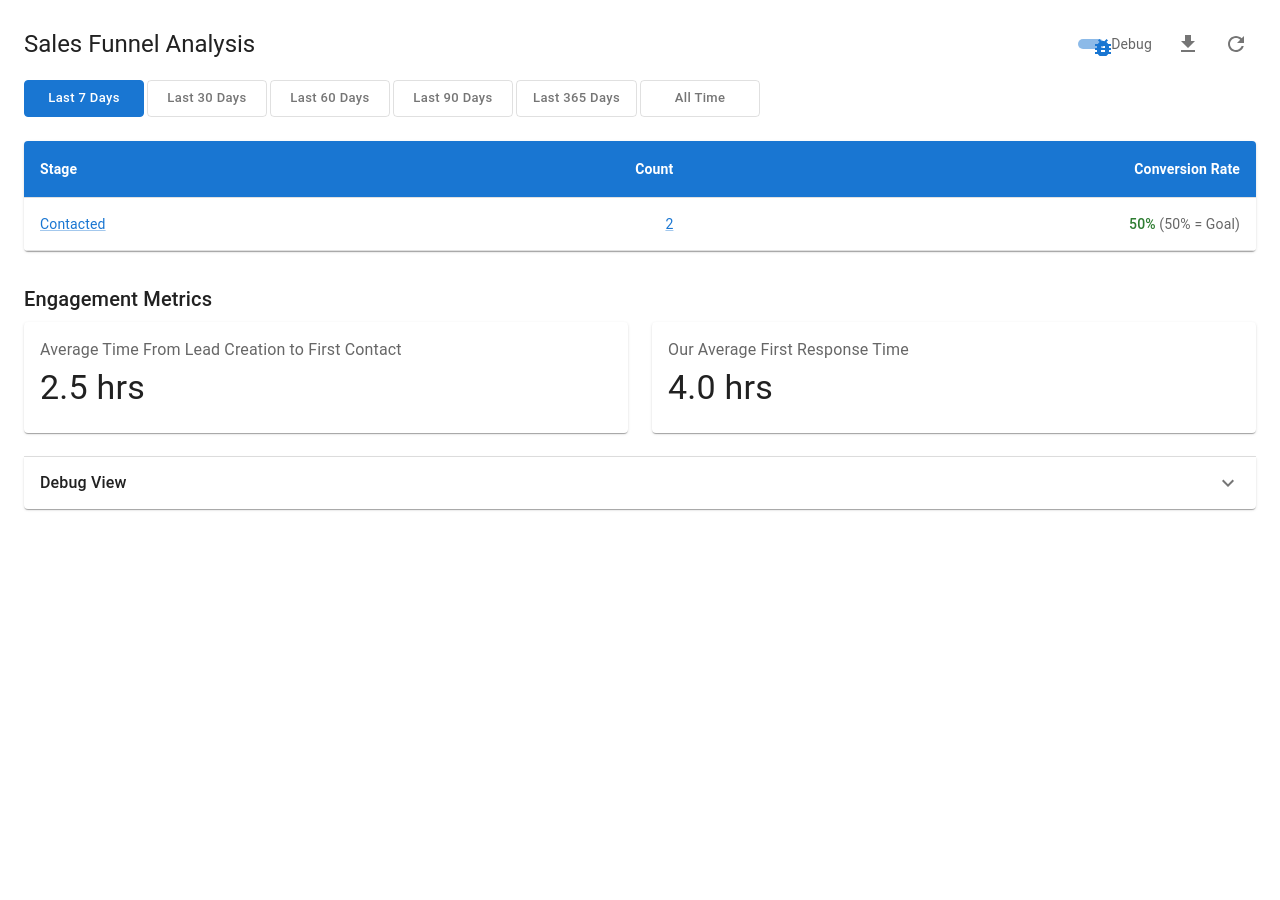
SalesFunnelReportComponent › Stage Drill-Down › should close modal when close button is clicked
Expected: the table is shown, [24,141,1256,251]
Open modal
What coordinates should you click on to do the following:
click the row "Contacted 2 50% (50% = Goal)"
I would click on:
 (640, 224)
Its box is [24,197,1256,250].
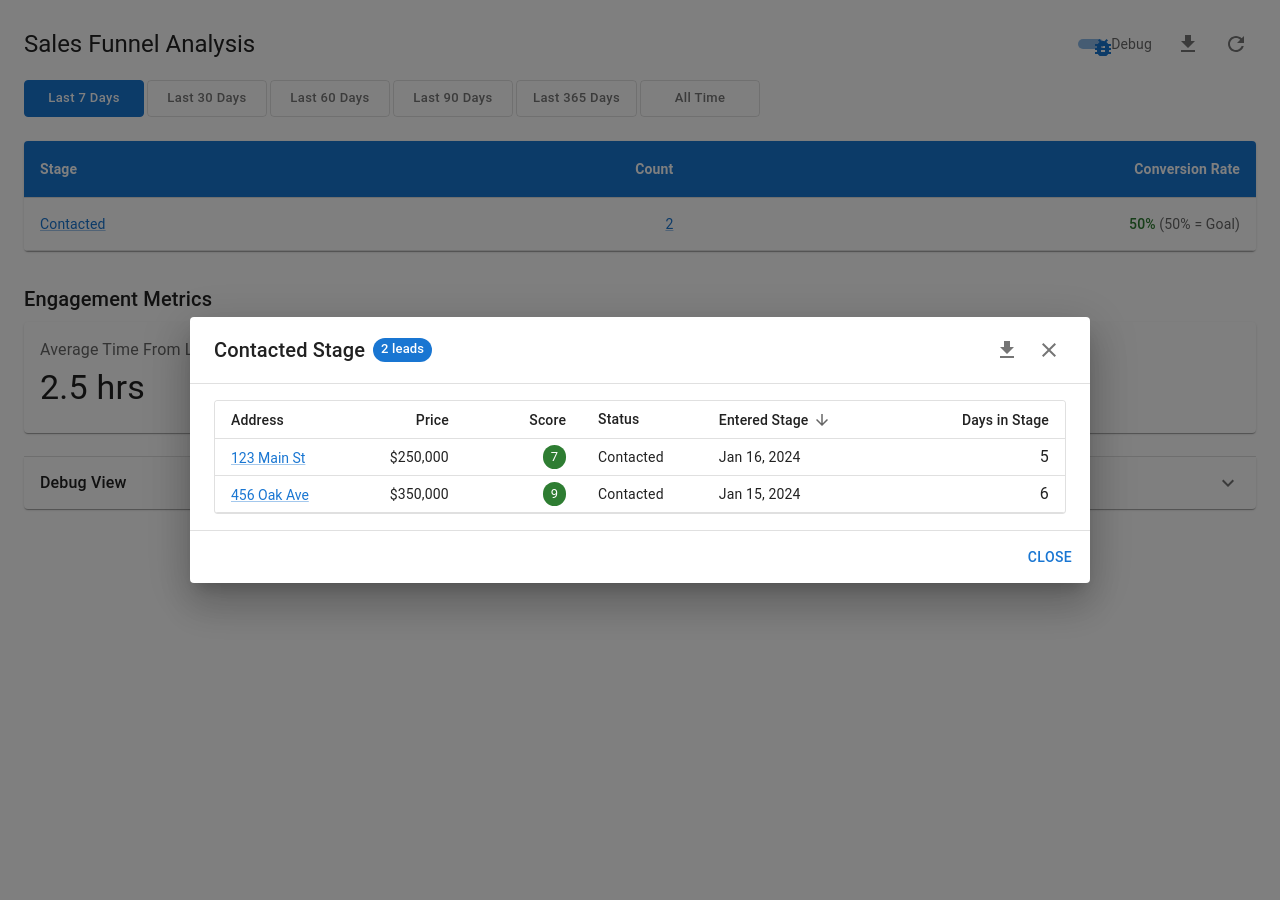
Now the dialog is shown, box [190,317,1090,583]
Close modal
What coordinates should you click on to do the following:
click the button "Close"
I would click on:
 (1050, 557)
Its box is [1018,539,1082,575].
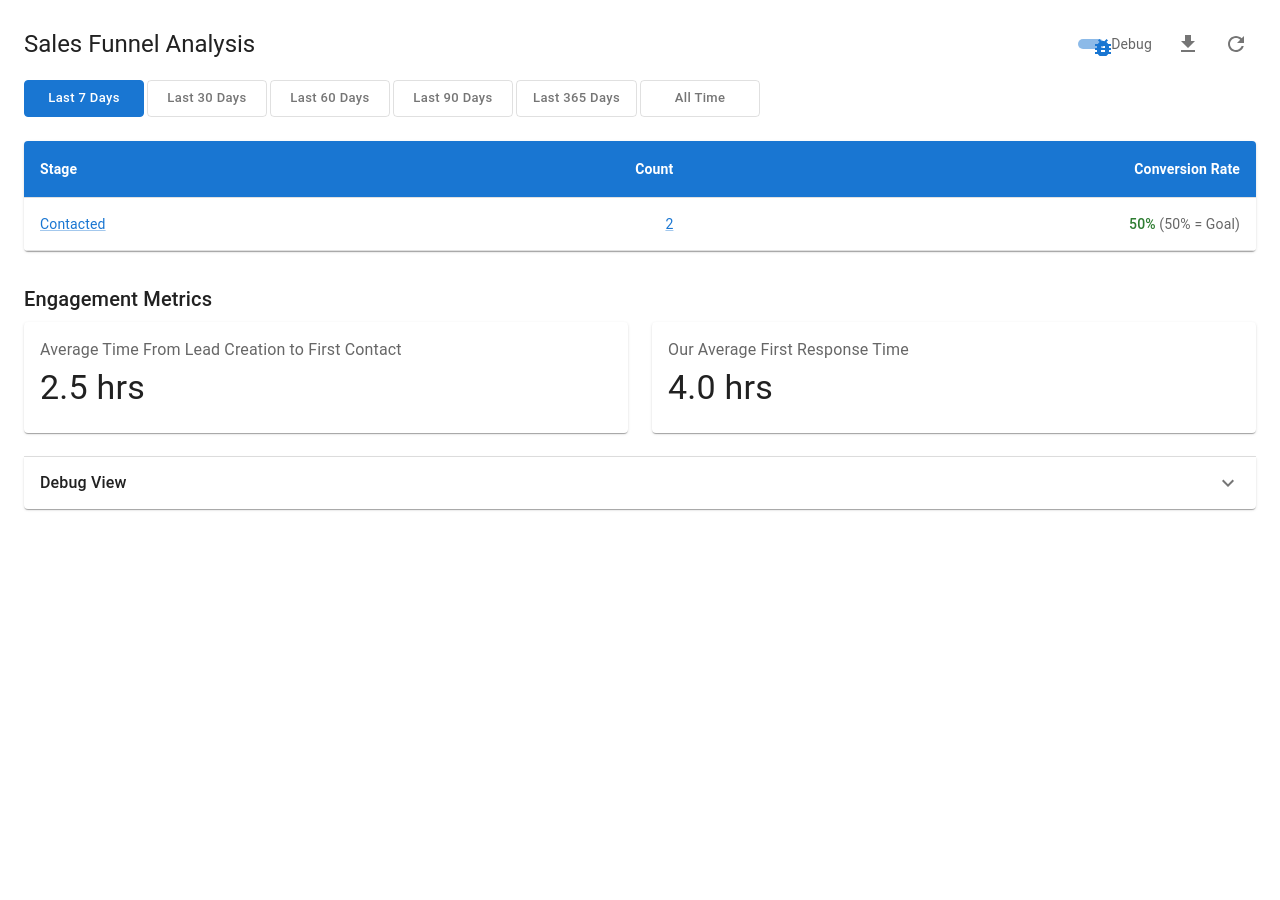
Now the dialog is gone
